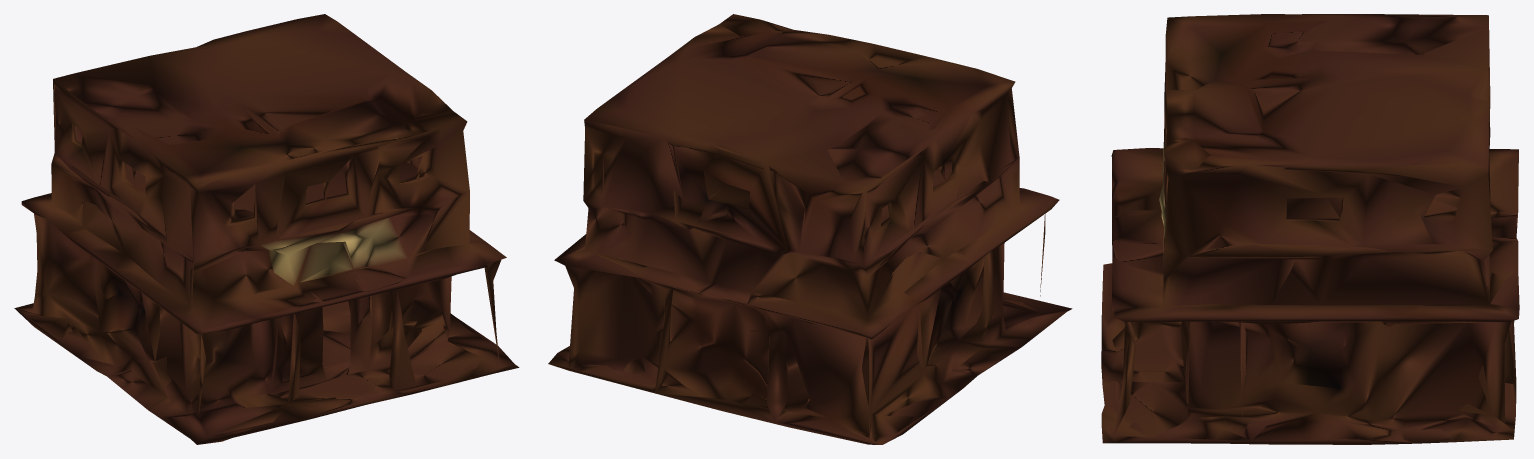
File: gen3d-western-saloon-lod0.glb
3 views of the same model, side by side, from view 1: azimuth 30°, elevation 25°; view 2: azimuth 150°, elevation 25°; view 3: azimuth 270°, elevation 25° (orthographic). The views are drawn at different scales.
Parts seen in each view (by area): view 1: part_0; view 2: part_0; view 3: part_0.
Part boxes in pixels (x1,y1,x2,y2): part_0: (14, 14, 519, 444); part_0: (548, 14, 1072, 444); part_0: (1101, 14, 1519, 444).
Bounding box in the file's own units: 1.41 × 0.9997 × 1.4.
